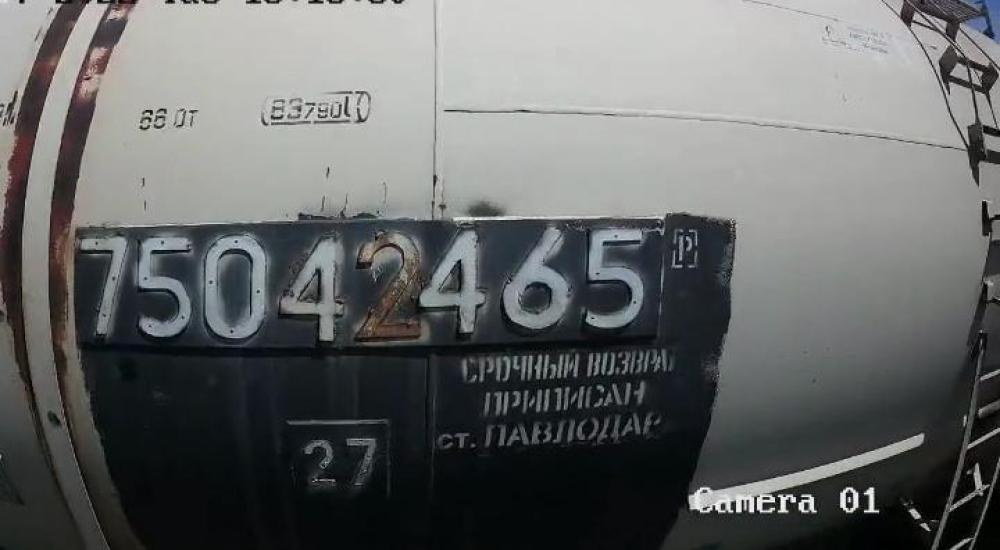Wagon-number: (68, 220, 652, 334)
